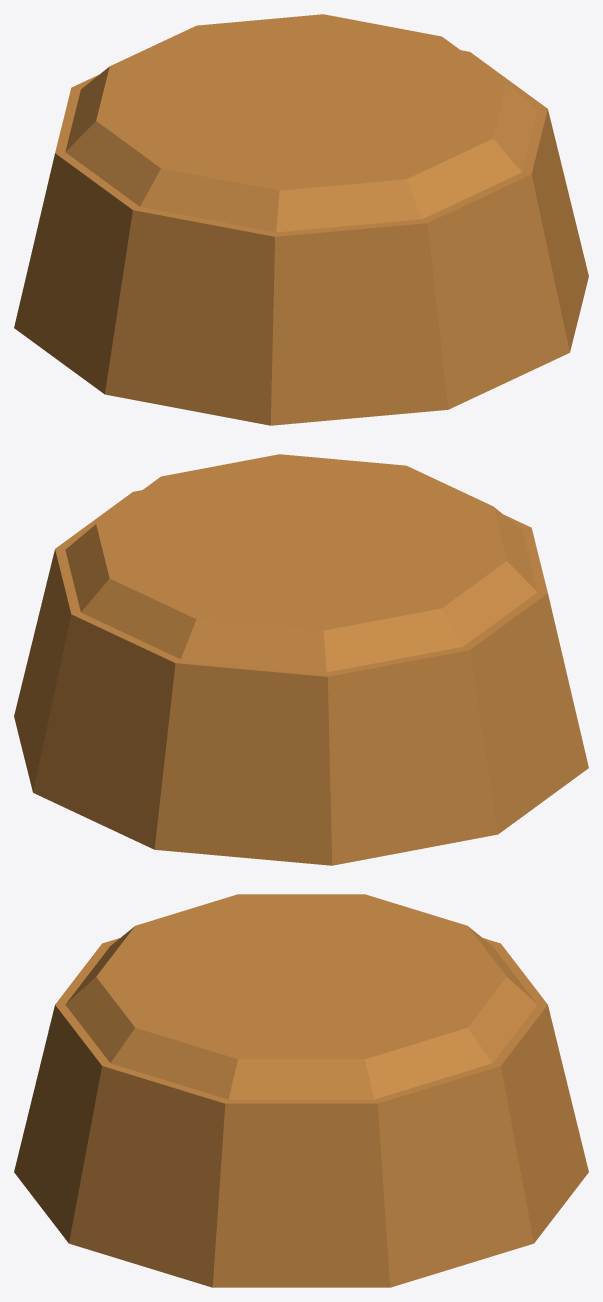
Rendered from food_pie.glb.
The picture shows the model from 3 angles, top to bottom: view 1: azimuth 30°, elevation 25°; view 2: azimuth 150°, elevation 25°; view 3: azimuth 270°, elevation 25°; orthographic projection. The views are drawn at different scales.
Parts seen in each view (by area): view 1: food_pie; view 2: food_pie; view 3: food_pie.
Part boxes in pixels (<box>): food_pie: <box>14,14,588,425</box>; food_pie: <box>14,454,588,865</box>; food_pie: <box>14,894,588,1287</box>.
Bounding box in the file's own units: 0.2663 × 0.105 × 0.28.
